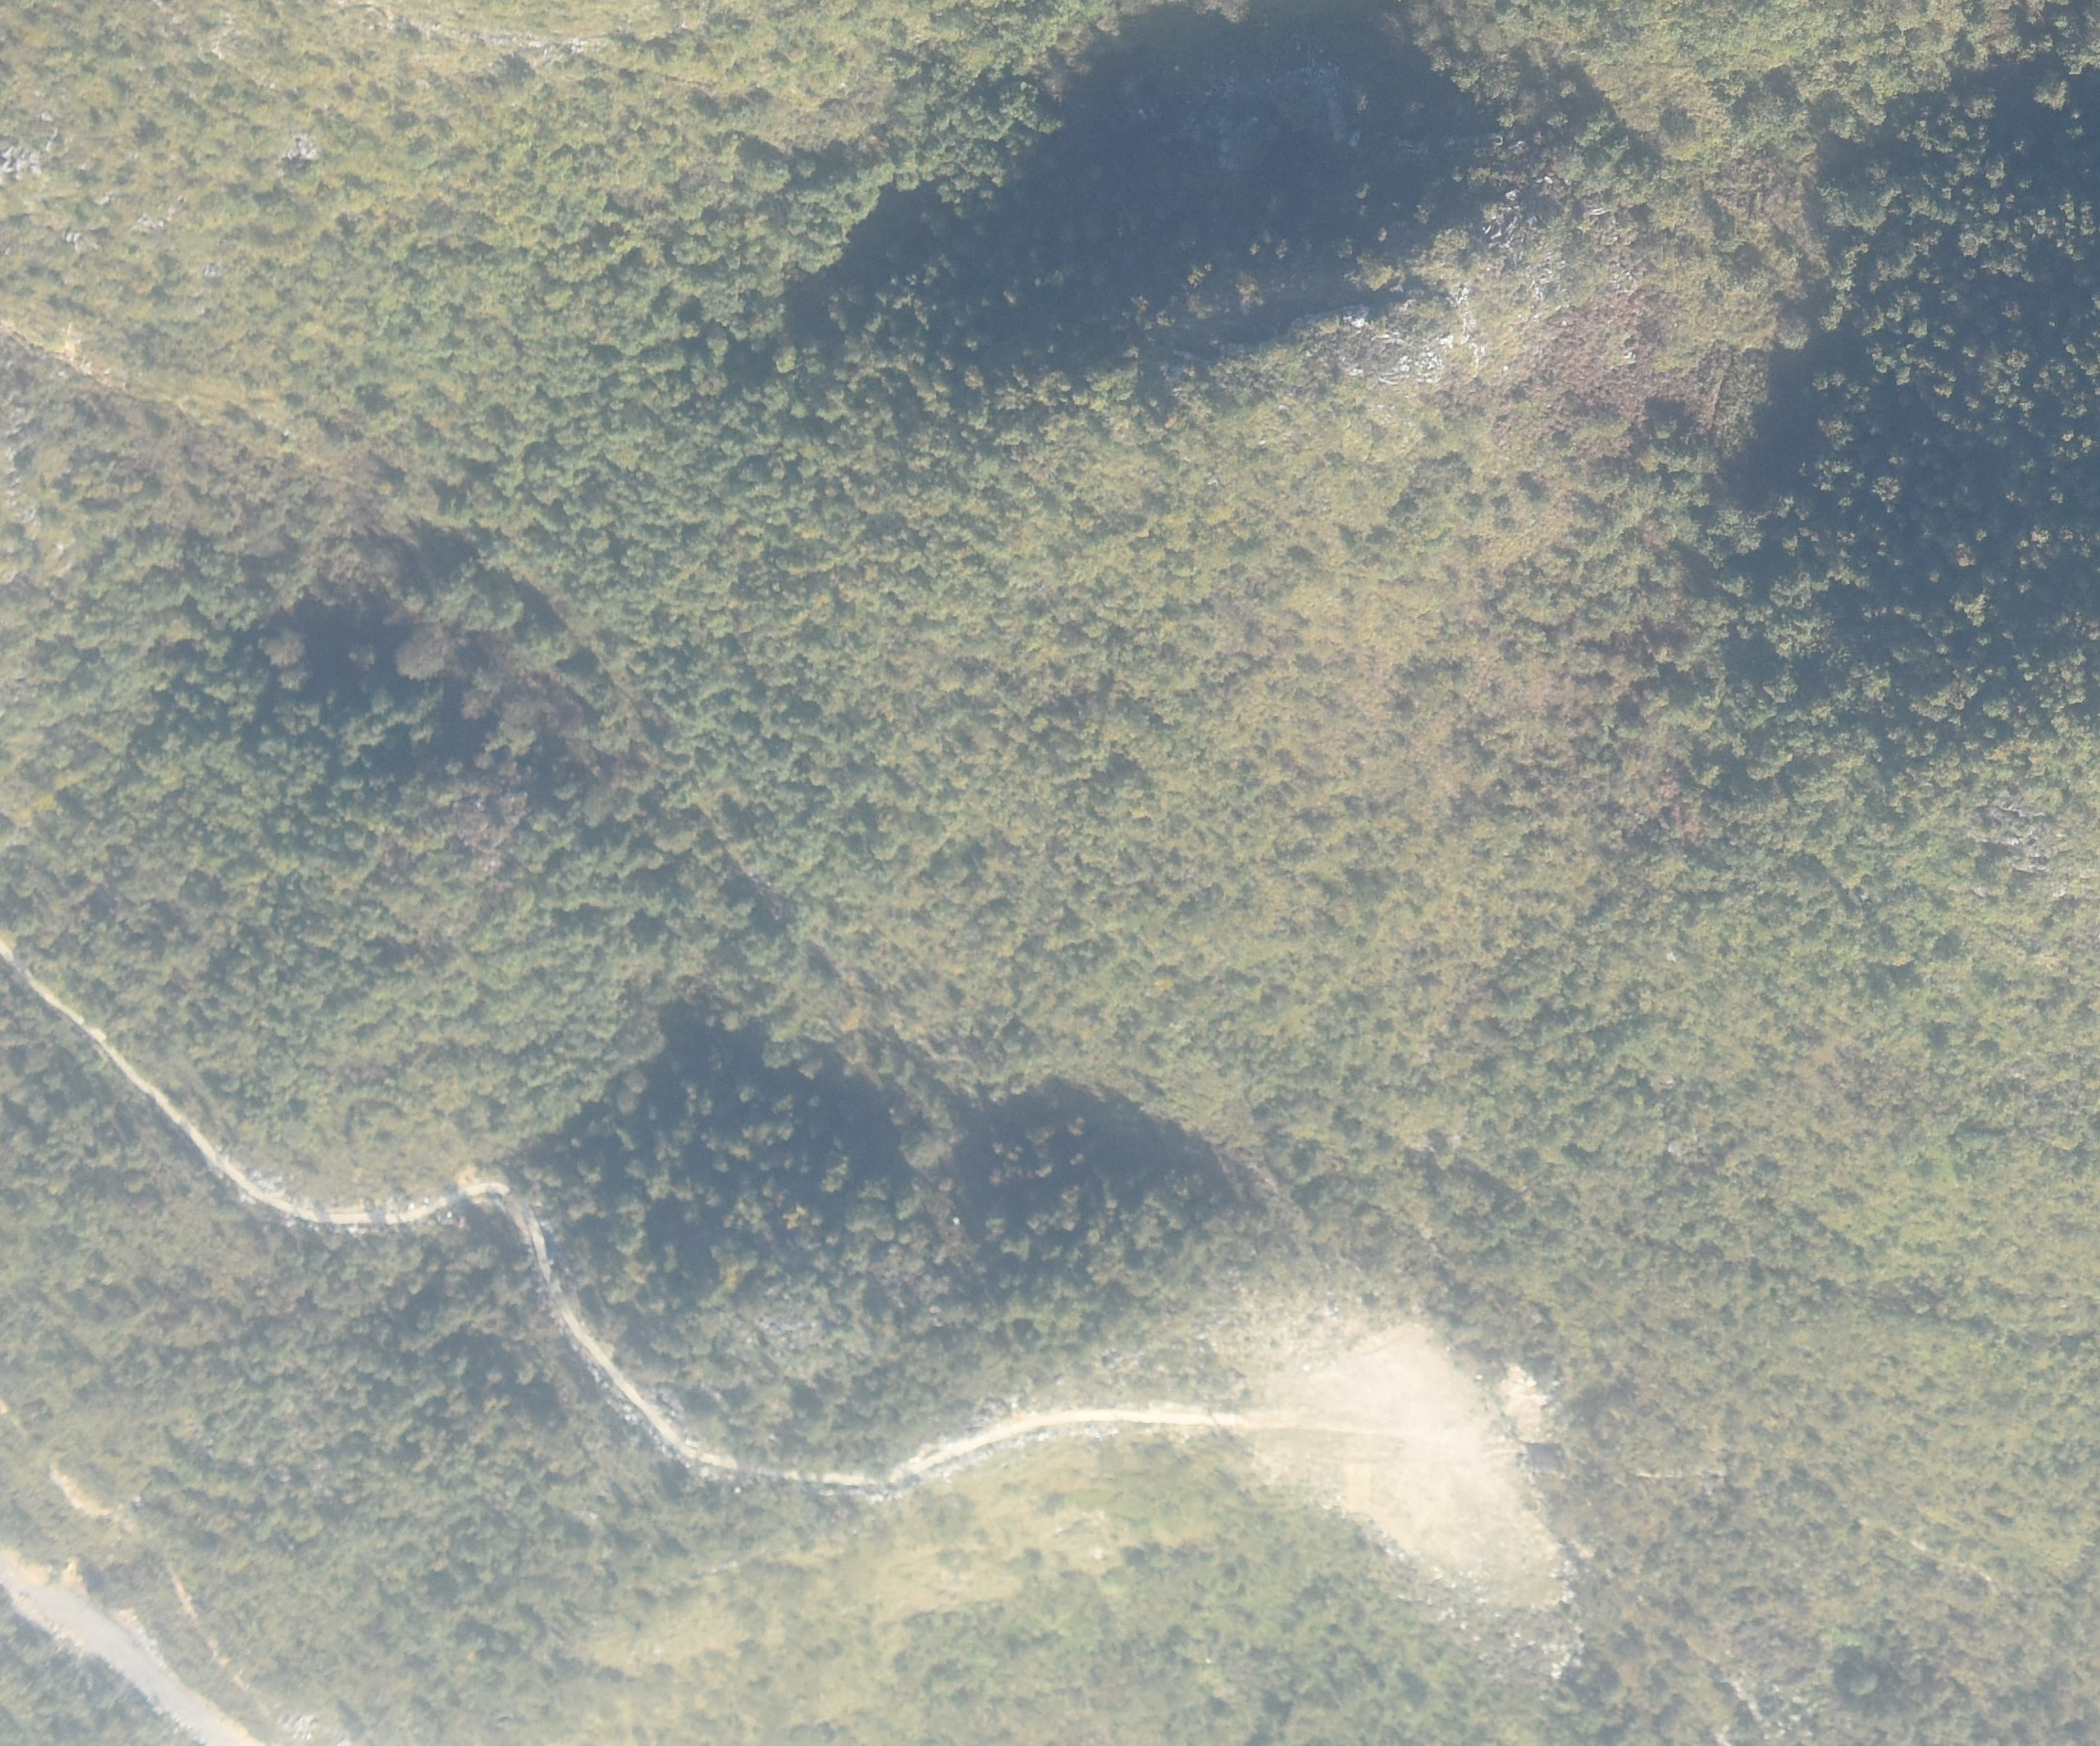quarry: (1231, 1301, 1588, 1627)
